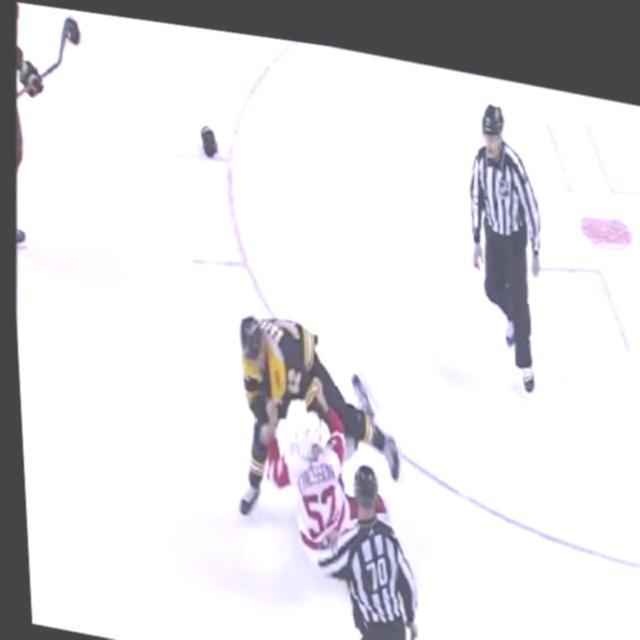fight: (224, 300, 406, 550)
